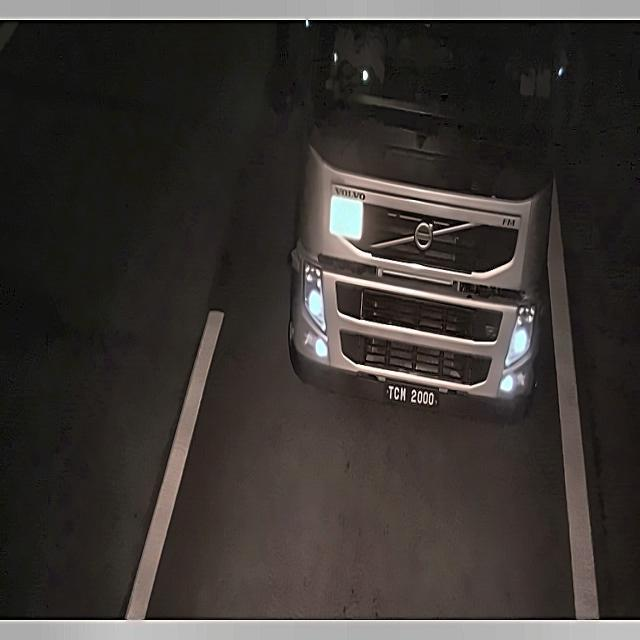car: (381, 374, 446, 416)
